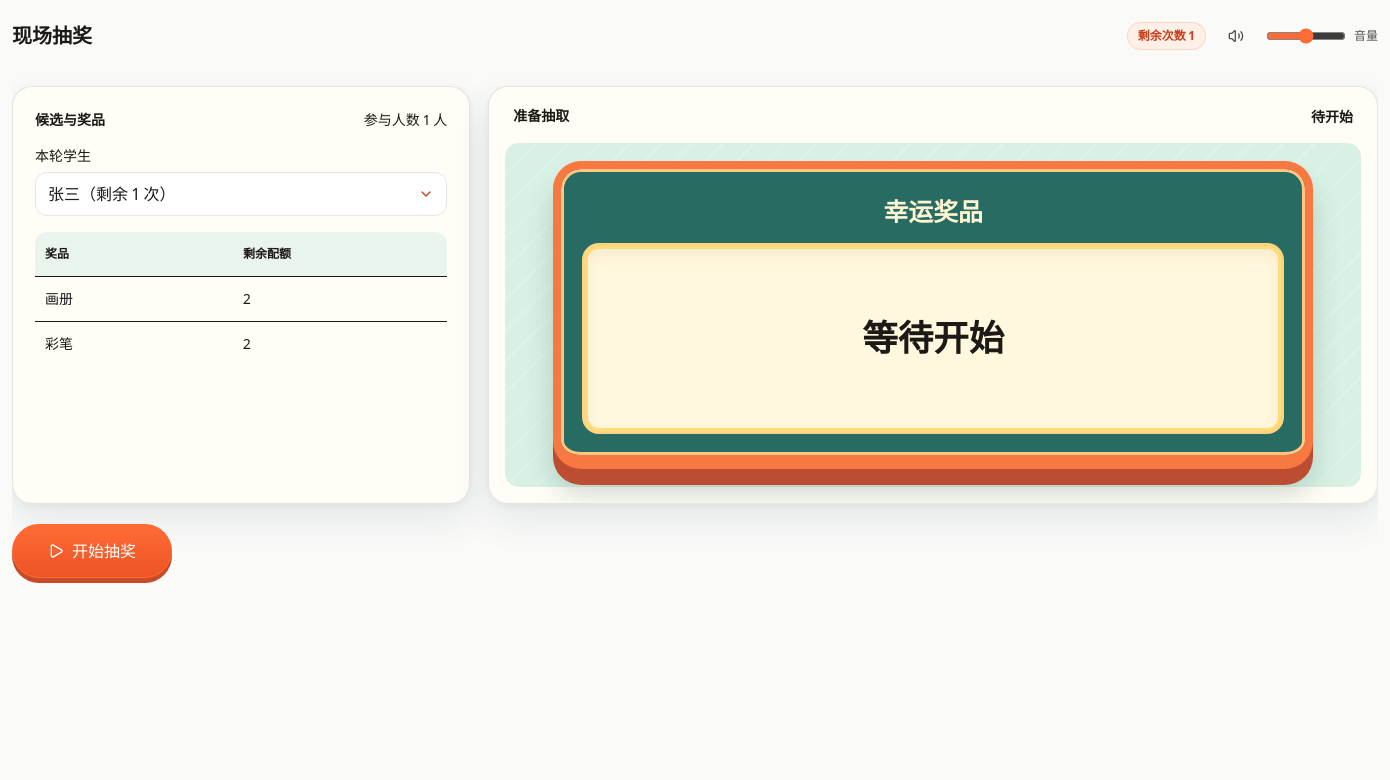
Test: immersive prize draw rolls prize names in three slot windows and reveals only the committed prize
Click the dropdown named "本轮学生": point(64, 194) [35,172,447,216]
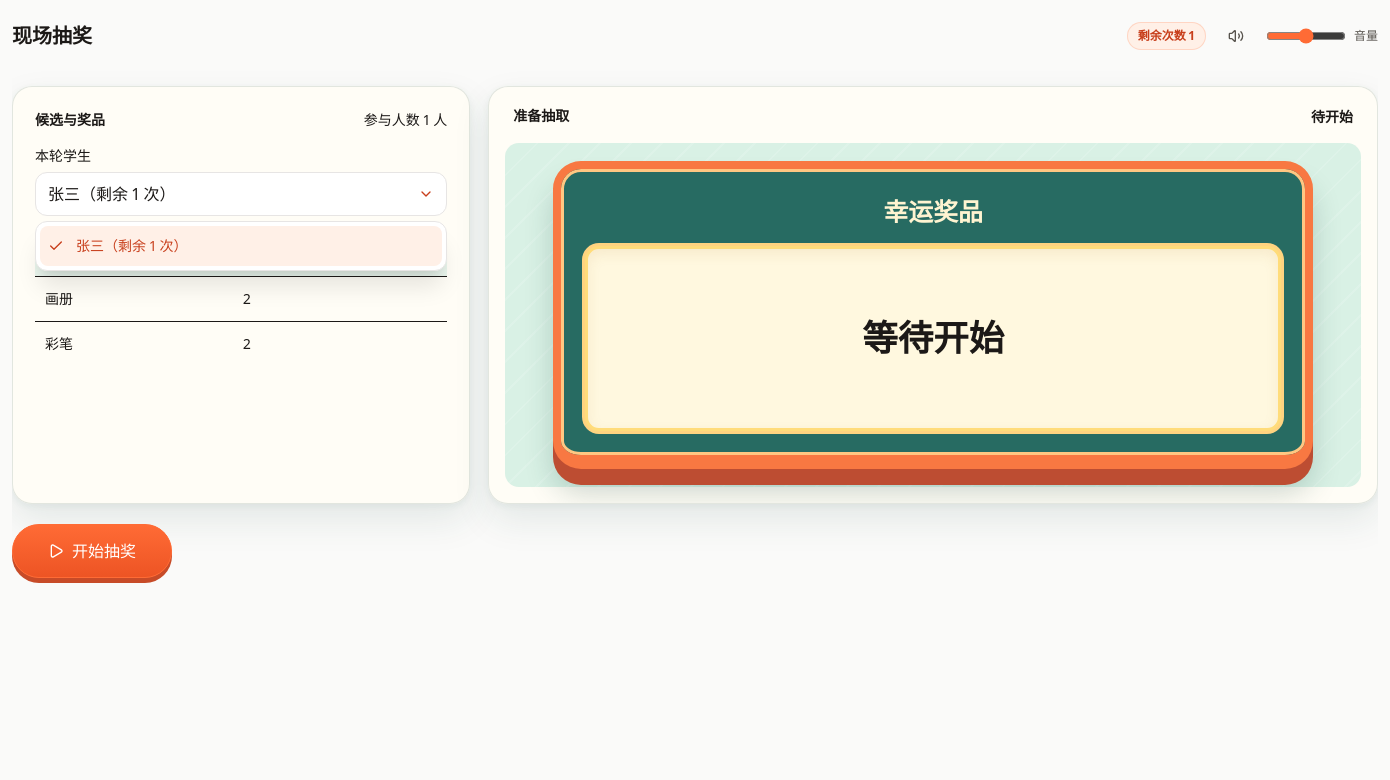
Click the option "张三（剩余 1 次）": point(127, 246) [40,226,442,266]
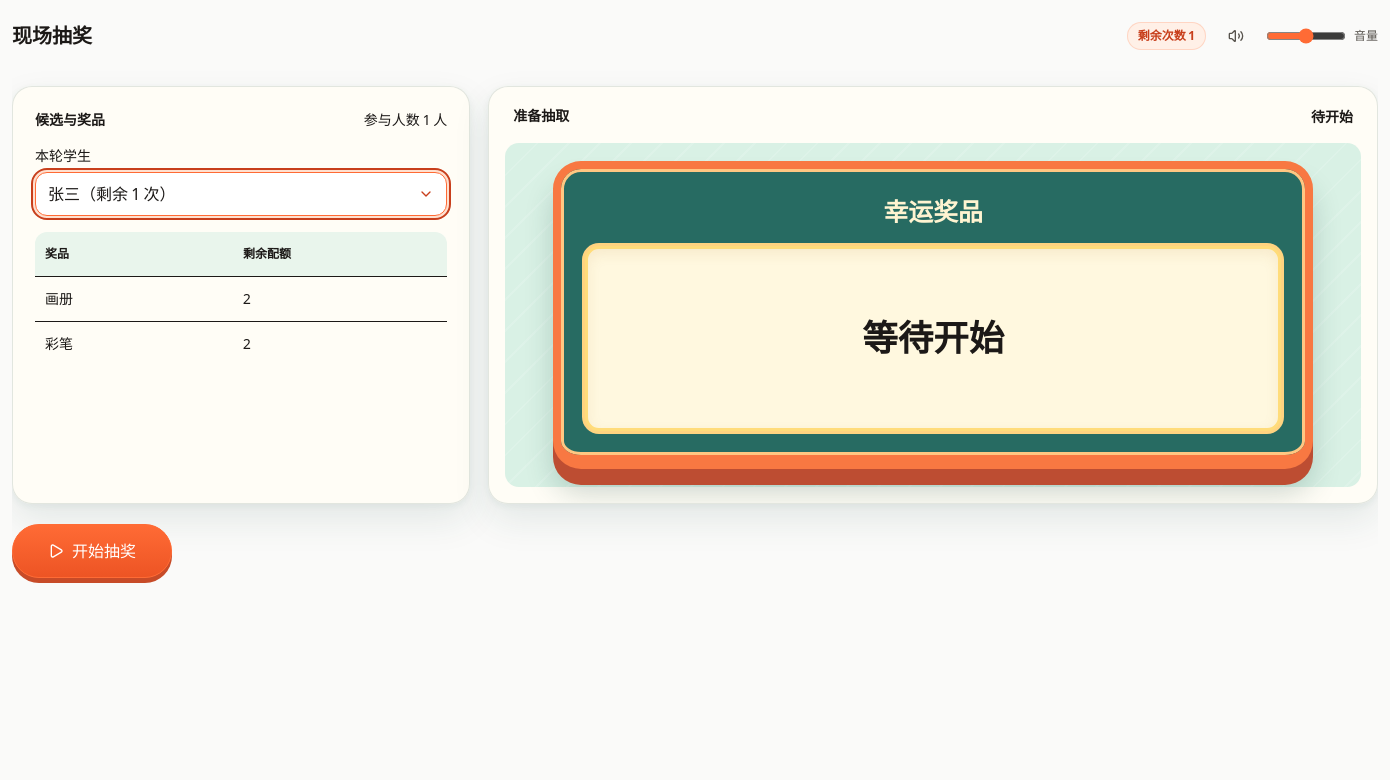
Click the button "开始抽奖": point(92, 550) [12,524,172,578]
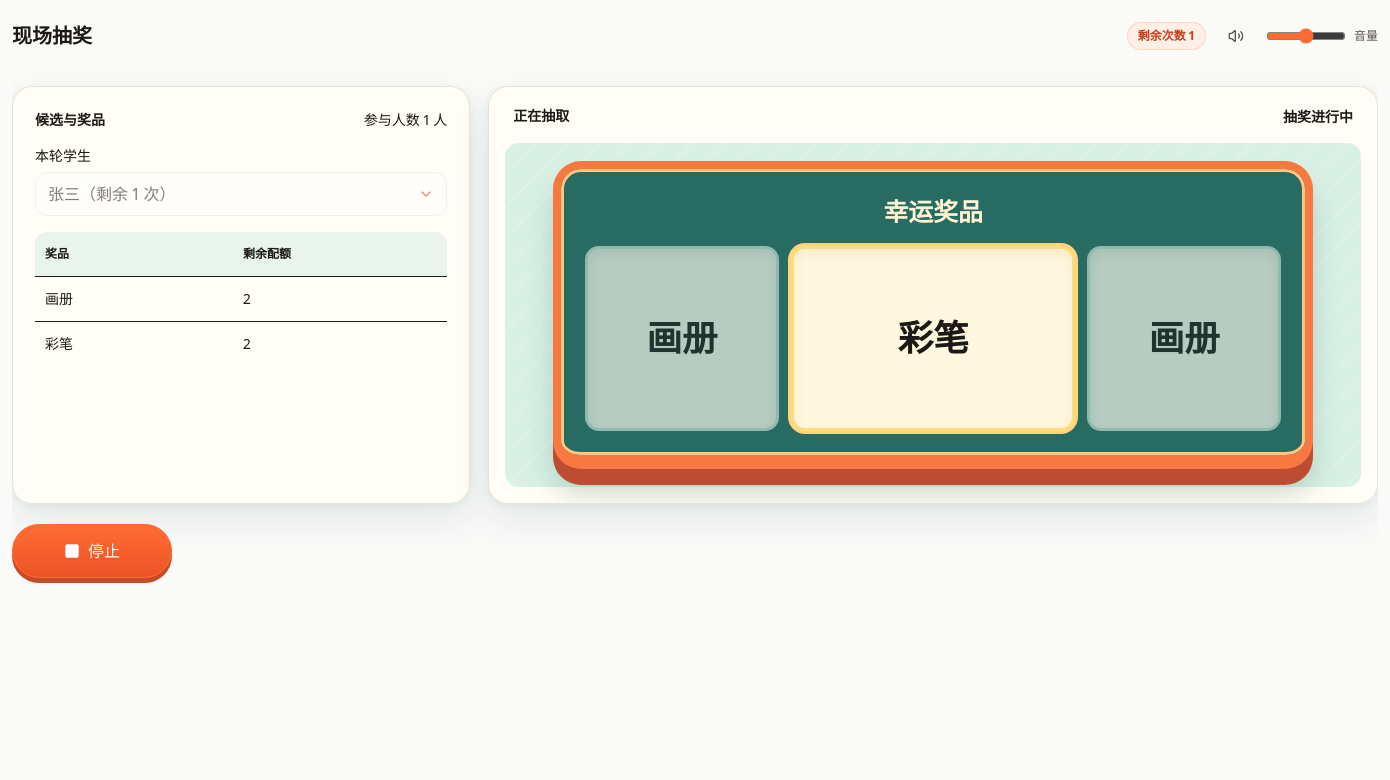
expect the element named "抽取候选" does not show "张三": met, box [505,143,1361,486]
expect the number of elements with test id "slot-window" is 3: met, box [585,246,779,430]; [791,246,1075,430]; [1087,246,1281,430]
expect the text with test id "slot-current" reads "彩笔": met, box [898,313,969,361]
Click the button "停止": point(92, 550) [12,524,172,578]
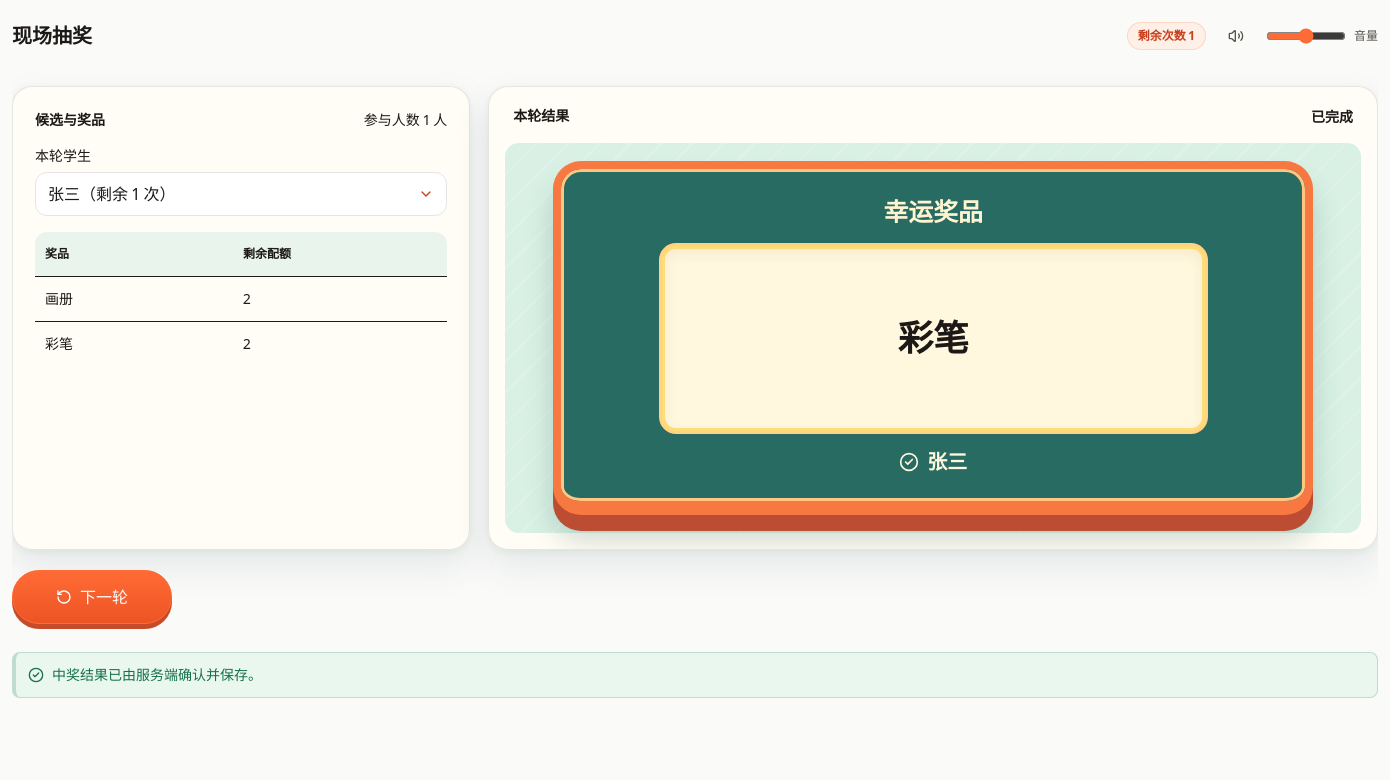
expect the element with test id "slot-current" reads "彩笔": met, box [898,313,969,361]
expect the element named "中奖结果" shows "张三": met, box [927,448,967,474]
